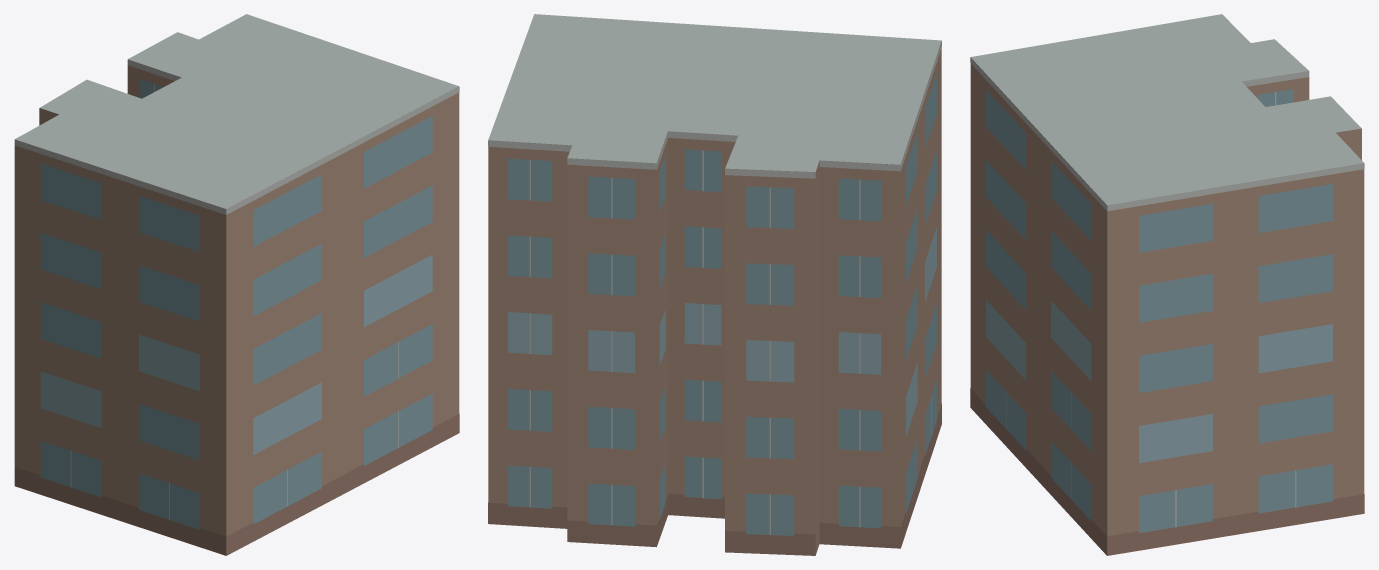
File: survey-upis-32881916.glb
The picture shows the model from 3 angles, left to right: view 1: azimuth 30°, elevation 25°; view 2: azimuth 150°, elevation 25°; view 3: azimuth 270°, elevation 25°; orthographic projection. The views are drawn at different scales.
Parts seen in each view (by area): view 1: survey-upis-32881916.tmp; view 2: survey-upis-32881916.tmp; view 3: survey-upis-32881916.tmp.
Boxes of the visible parts, x1,y1,x2,y2 form: survey-upis-32881916.tmp: [14, 14, 459, 555]; survey-upis-32881916.tmp: [488, 14, 941, 555]; survey-upis-32881916.tmp: [970, 14, 1364, 555].
Bounding box in the file's own units: 16.75 × 14.3 × 14.58.
